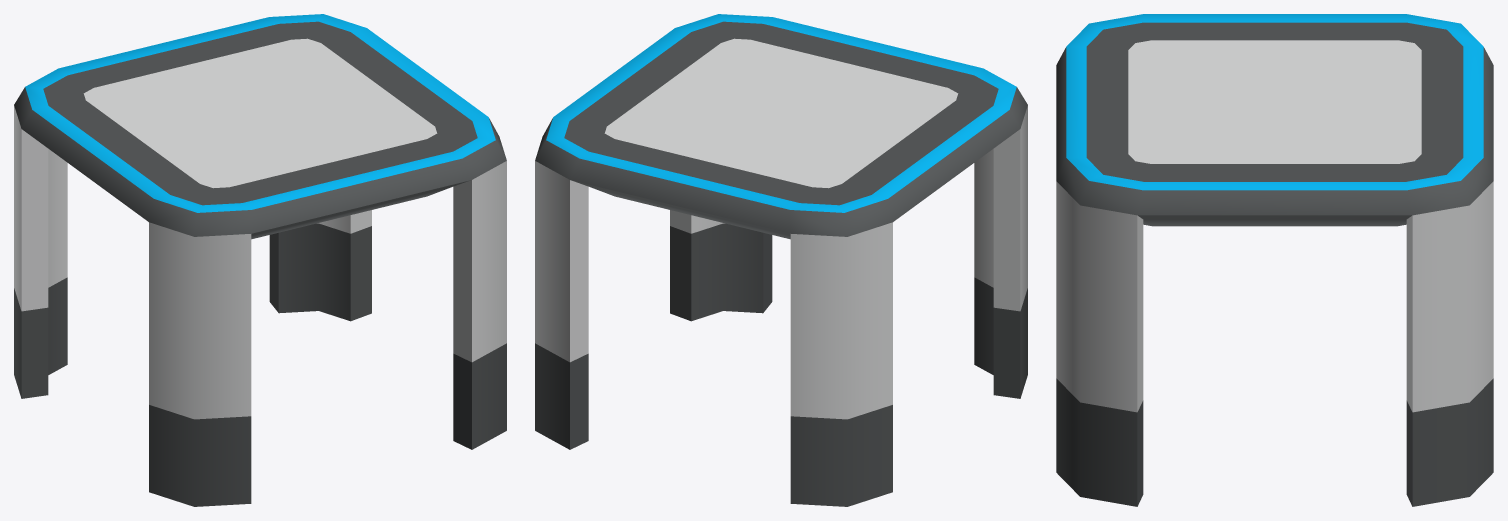
File: Chair_004.glb
3 views of the same model, side by side, from view 1: azimuth 30°, elevation 25°; view 2: azimuth 150°, elevation 25°; view 3: azimuth 270°, elevation 25° (orthographic). The views are drawn at different scales.
Parts seen in each view (by area): view 1: Chair_004; view 2: Chair_004; view 3: Chair_004.
Boxes of the visible parts, bbox=[...] form: Chair_004: bbox=[14, 14, 506, 506]; Chair_004: bbox=[535, 14, 1027, 506]; Chair_004: bbox=[1056, 14, 1493, 506].
Size of the model in its own units: 0.6103 by 0.4813 by 0.6103.
Materials: 2 (2 with a texture image).
